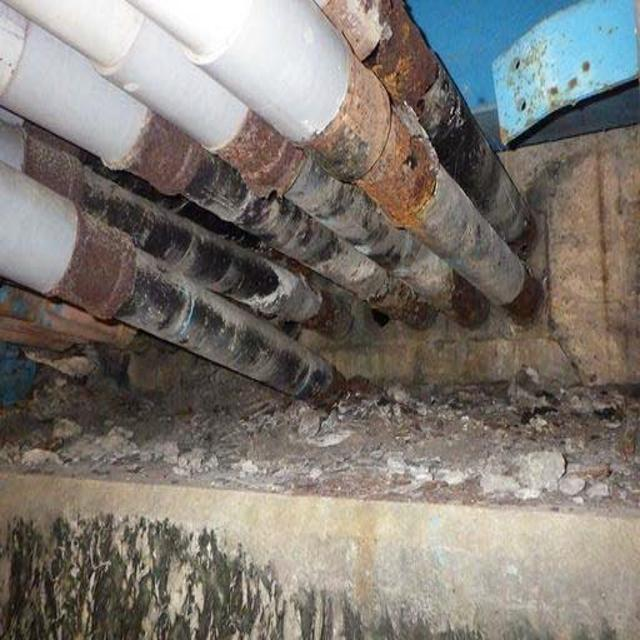corrosion: (19, 110, 297, 373), (336, 1, 460, 236)
